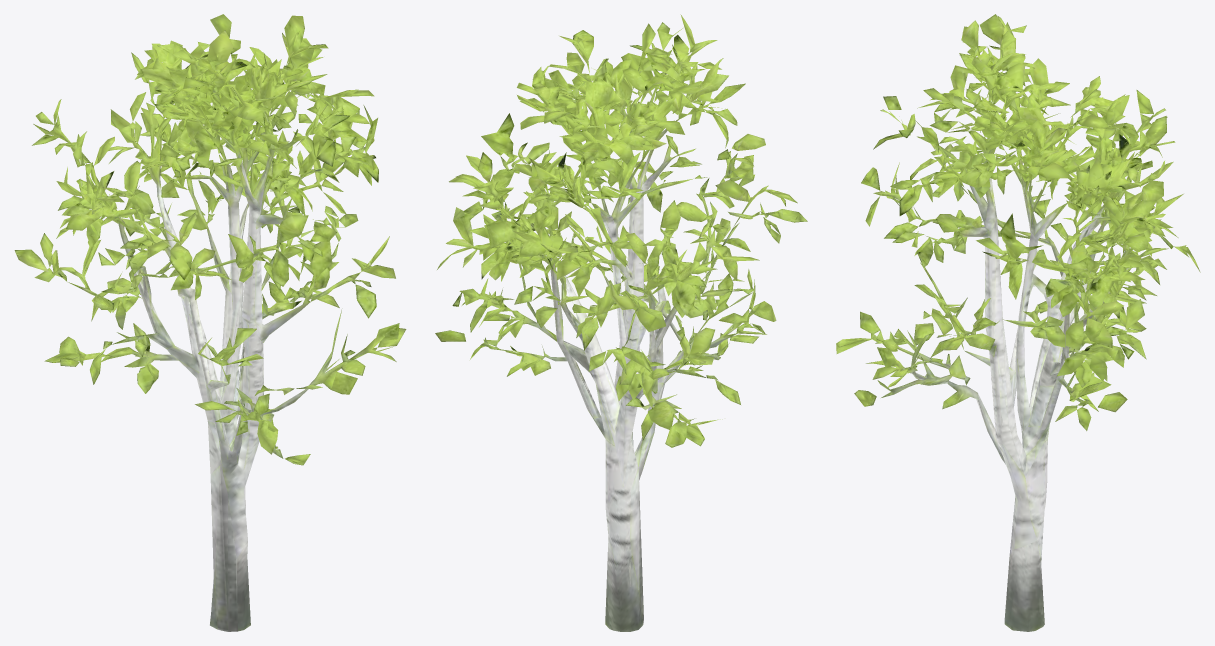
Rendered from prop-birch-tree.glb.
3 views of the same model, side by side, from view 1: azimuth 30°, elevation 25°; view 2: azimuth 150°, elevation 25°; view 3: azimuth 270°, elevation 25° (orthographic). The views are drawn at different scales.
Size of the model in its own units: 0.9733 by 1.91 by 1.07.
1 material, 1 textured.
